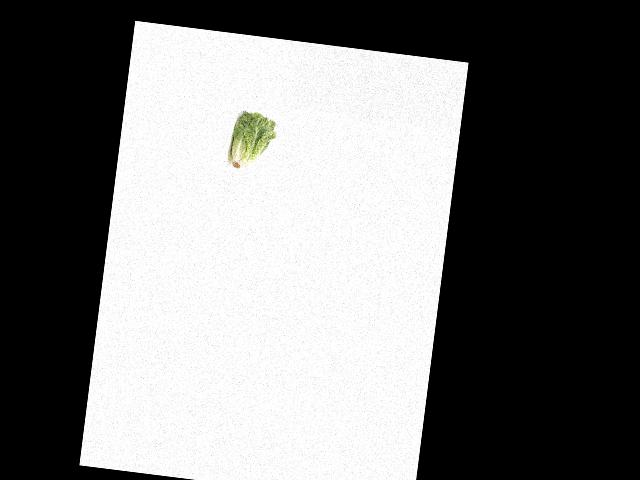lettuce: (226, 109, 278, 175)
